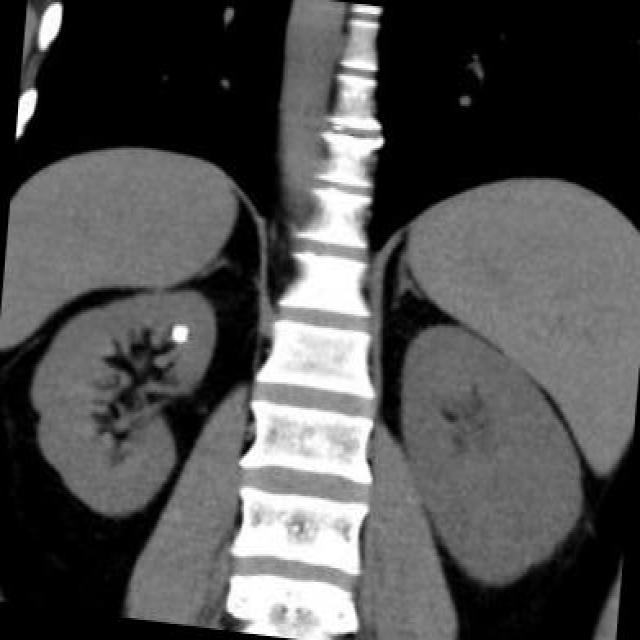Tas_Var: (166, 315, 192, 353)
